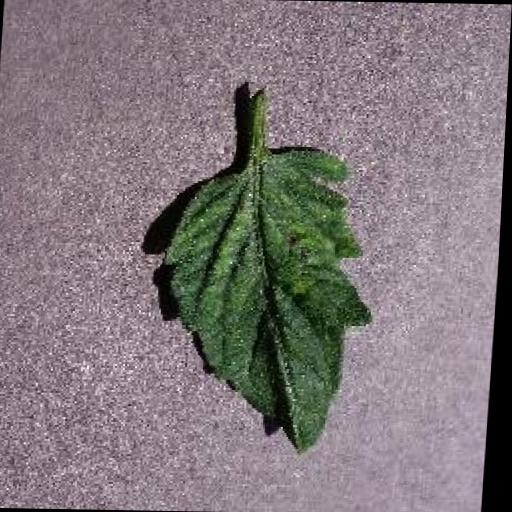Mosaic Virus: (157, 142, 387, 454)
